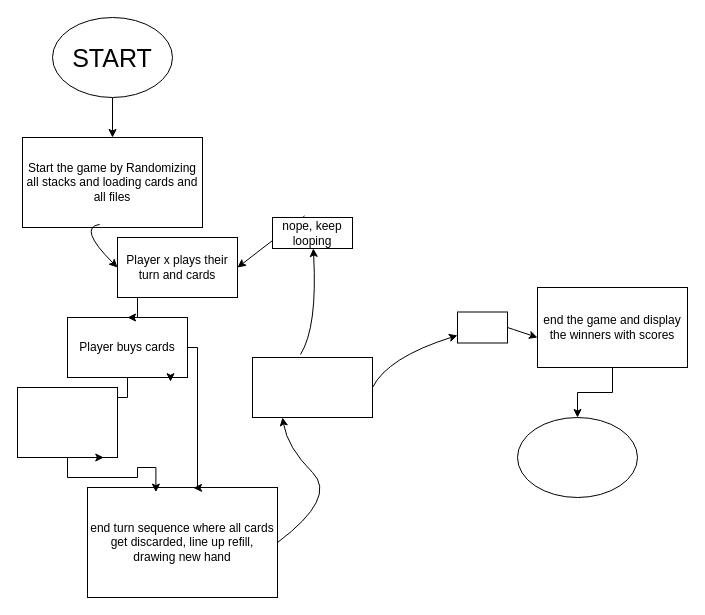
Some shapes in this 705 by 615 pixel diagram are drawn without their labels. Here are the shapes that lost their labels. From the top down, the box of each, then its label:
(456, 311, 508, 343): yes end game
(252, 356, 372, 418): is the game over yet checks?
(16, 386, 118, 458): if deck is empty, then reshuffle discard into deck
(516, 416, 638, 498): END
